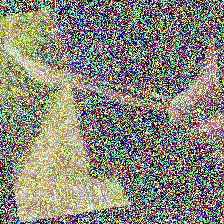Leaf_Blast: (26, 58, 155, 103)
